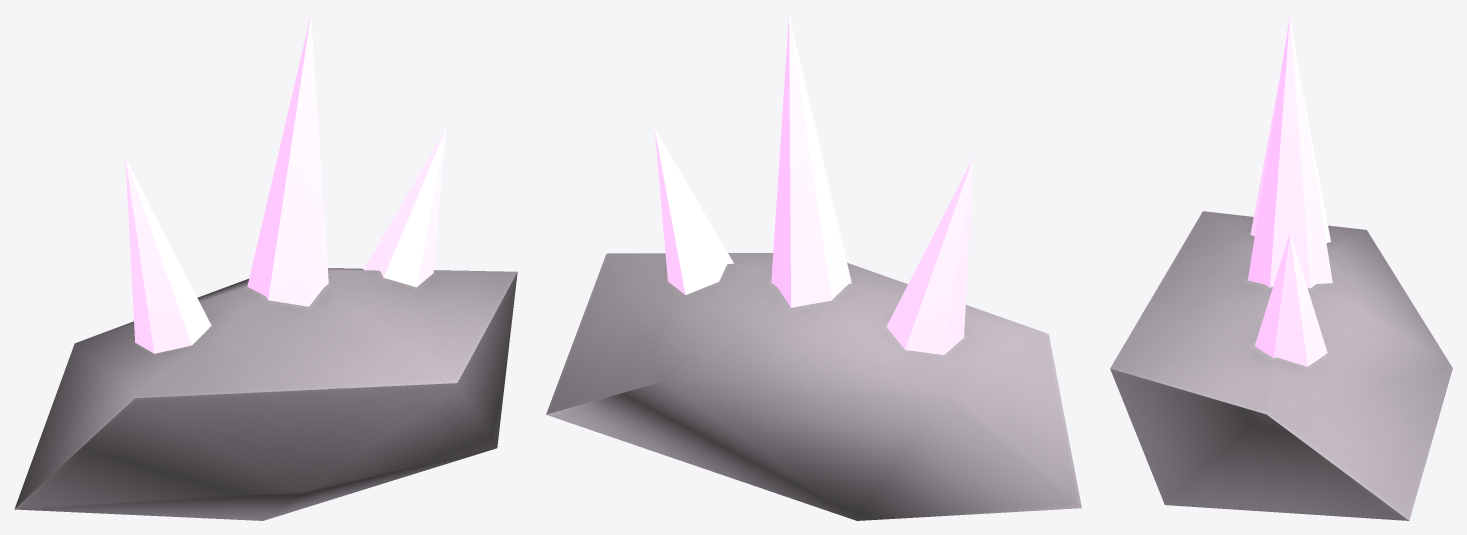
The model's file is hs_obstacle_crystal.glb.
The picture shows the model from 3 angles, left to right: view 1: azimuth 30°, elevation 25°; view 2: azimuth 150°, elevation 25°; view 3: azimuth 270°, elevation 25°; orthographic projection. The views are drawn at different scales.
Visible parts, largest first — view 1: hs_obstacle_crystal; view 2: hs_obstacle_crystal; view 3: hs_obstacle_crystal.
Boxes of the visible parts, x1,y1,x2,y2 form: hs_obstacle_crystal: [14, 15, 517, 520]; hs_obstacle_crystal: [546, 14, 1081, 520]; hs_obstacle_crystal: [1110, 14, 1452, 520].
Size of the model in its own units: 2.18 by 2.06 by 1.29.
2 materials, 2 textured.
